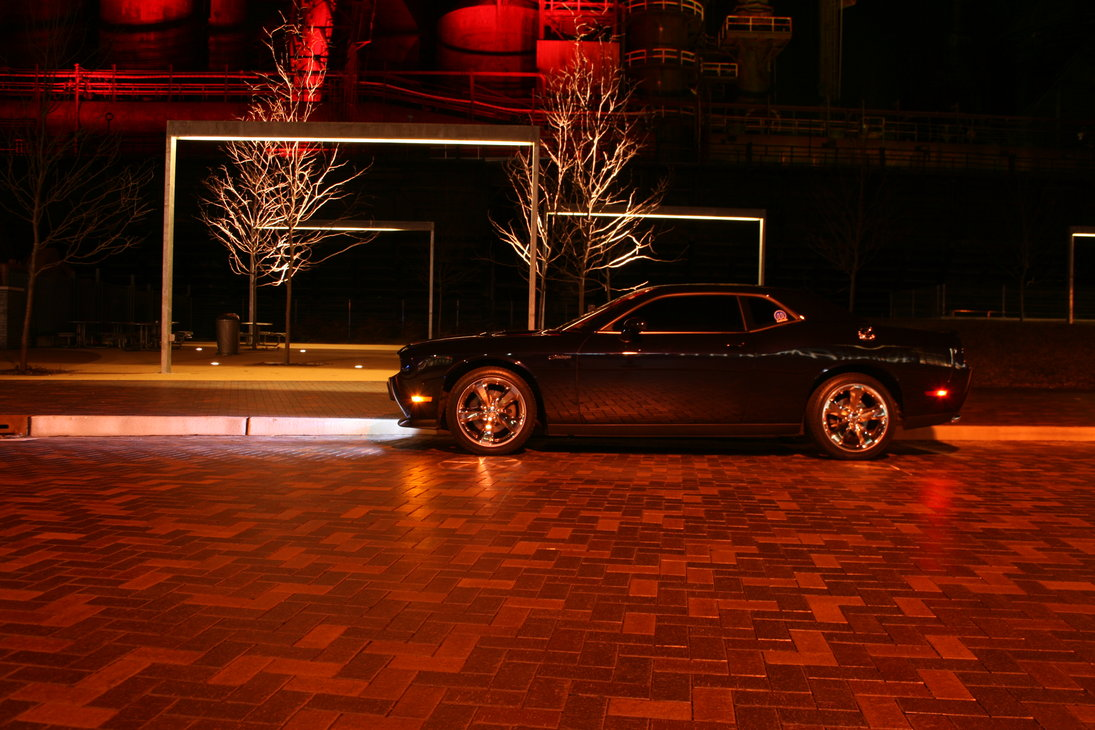car: (383, 272, 987, 464)
